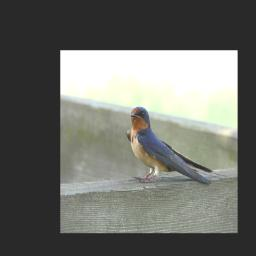Swallow: (125, 105, 228, 187)
